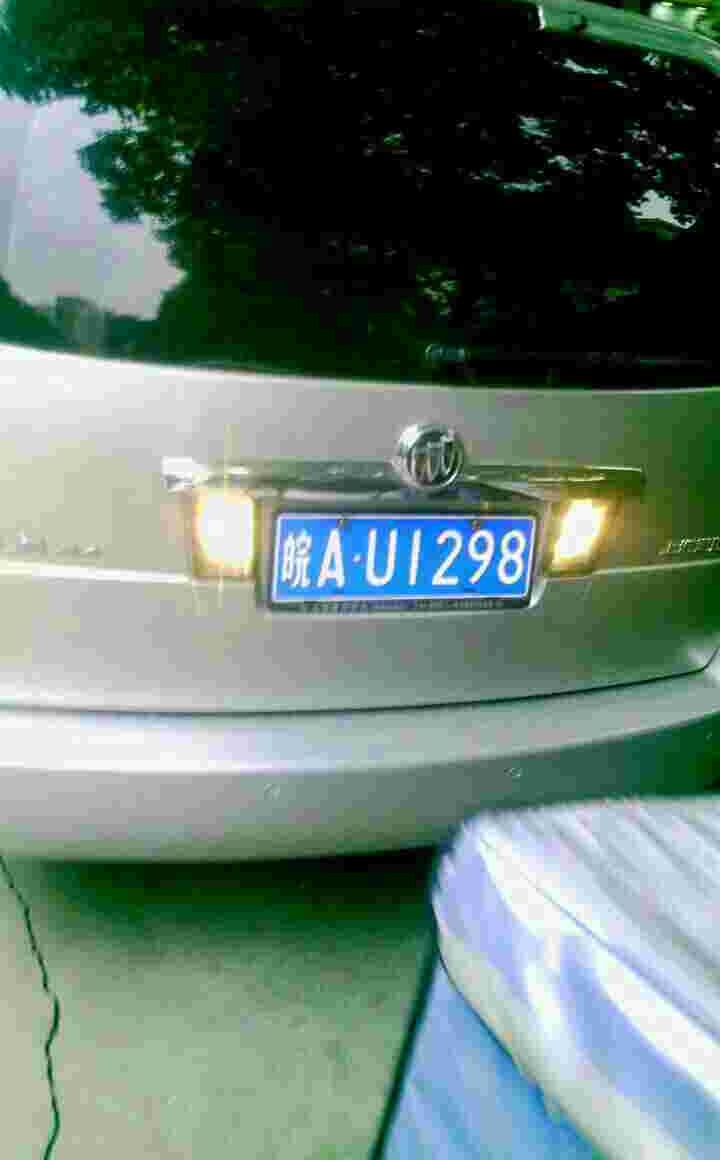plate: (276, 510, 545, 604)
